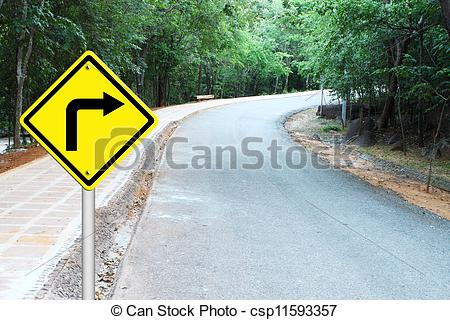right: (17, 49, 161, 191)
